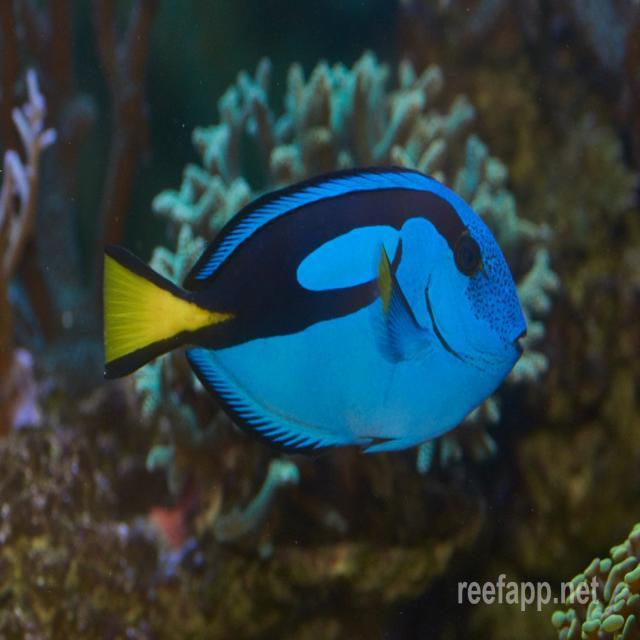BlueTang: (103, 162, 532, 457)
